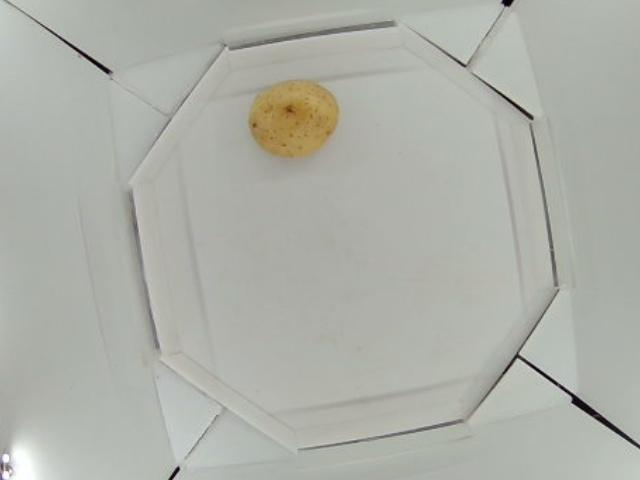Potato: (251, 79, 335, 153)
